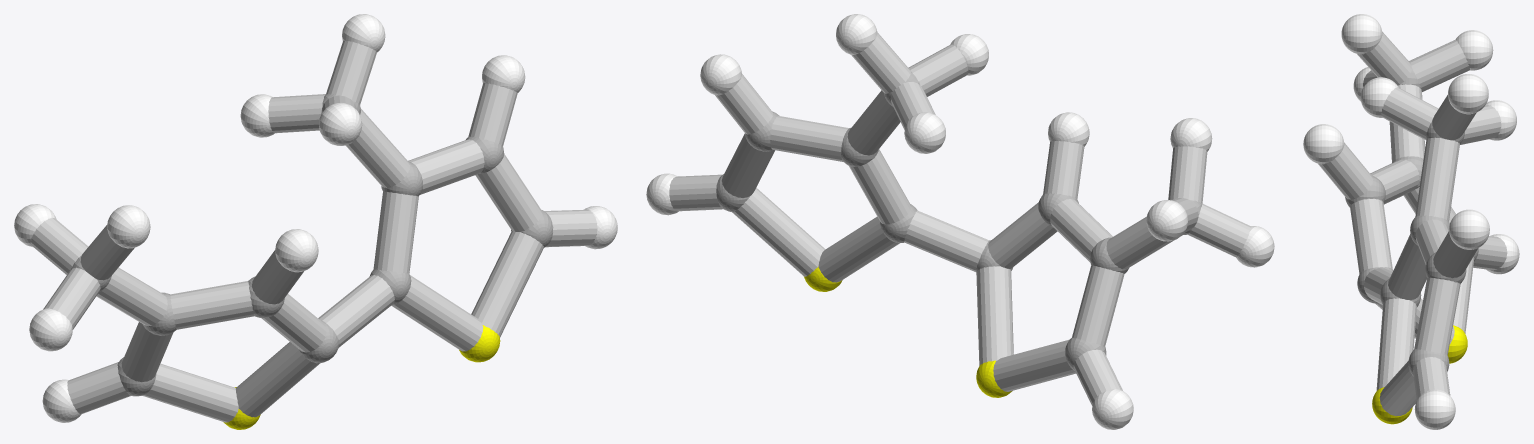
The model's file is Methylthiophene_Phi_40_Theta_140_Methylthiophene.glb.
3 renders of one model, left to right at view 1: azimuth 30°, elevation 25°; view 2: azimuth 150°, elevation 25°; view 3: azimuth 270°, elevation 25°, orthographic. The views are drawn at different scales.
Visible parts, largest first — view 1: grp7965, grp3621, grp1, grp7241; view 2: grp7965, grp3621, grp1, grp7241; view 3: grp7965, grp3621, grp1, grp7241.
Boxes of the visible parts, x1,y1,x2,y2 form: grp7965: (31,40,597,422); grp3621: (14,14,617,422); grp1: (71,94,553,396); grp7241: (223,325,500,429); grp7965: (669,32,1251,405); grp3621: (646,14,1274,429); grp1: (716,71,1202,370); grp7241: (804,266,1012,397); grp7965: (1318,32,1507,416); grp3621: (1303,14,1519,429); grp1: (1345,68,1478,376); grp7241: (1372,325,1467,424).
Size of the model in its own units: 9.78 by 5.64 by 3.17.
